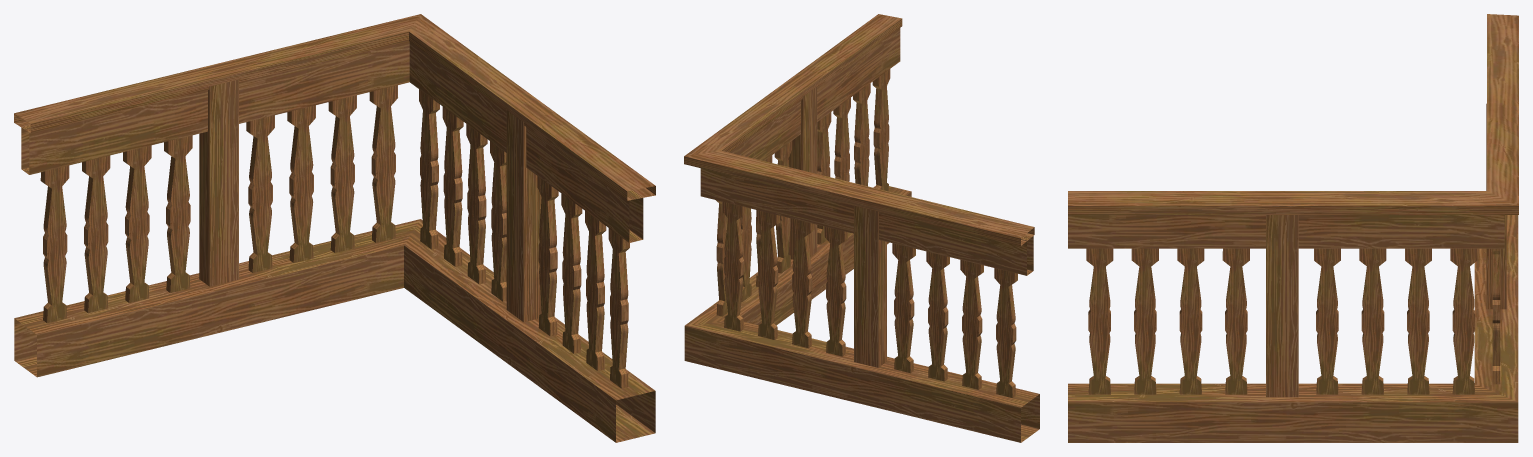
Rendered from balcony_simple_corner.glb.
3 renders of one model, left to right at view 1: azimuth 30°, elevation 25°; view 2: azimuth 150°, elevation 25°; view 3: azimuth 270°, elevation 25°, orthographic. The views are drawn at different scales.
Bounding box in the file's own units: 2.1 × 1.23 × 2.1.
Materials: 1 (1 with a texture image).
